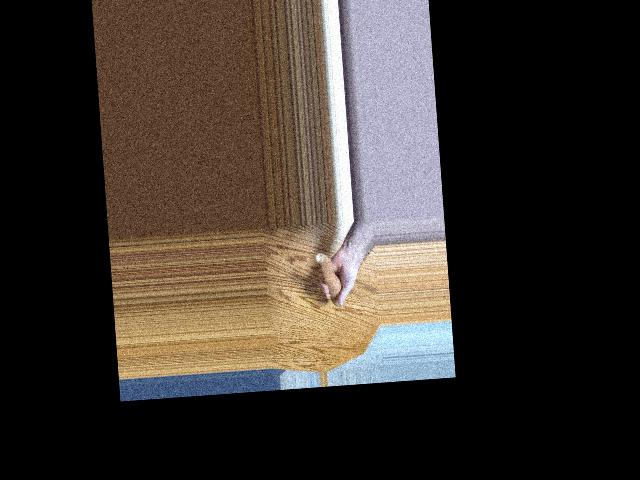sweet_potato: (315, 248, 343, 310)
